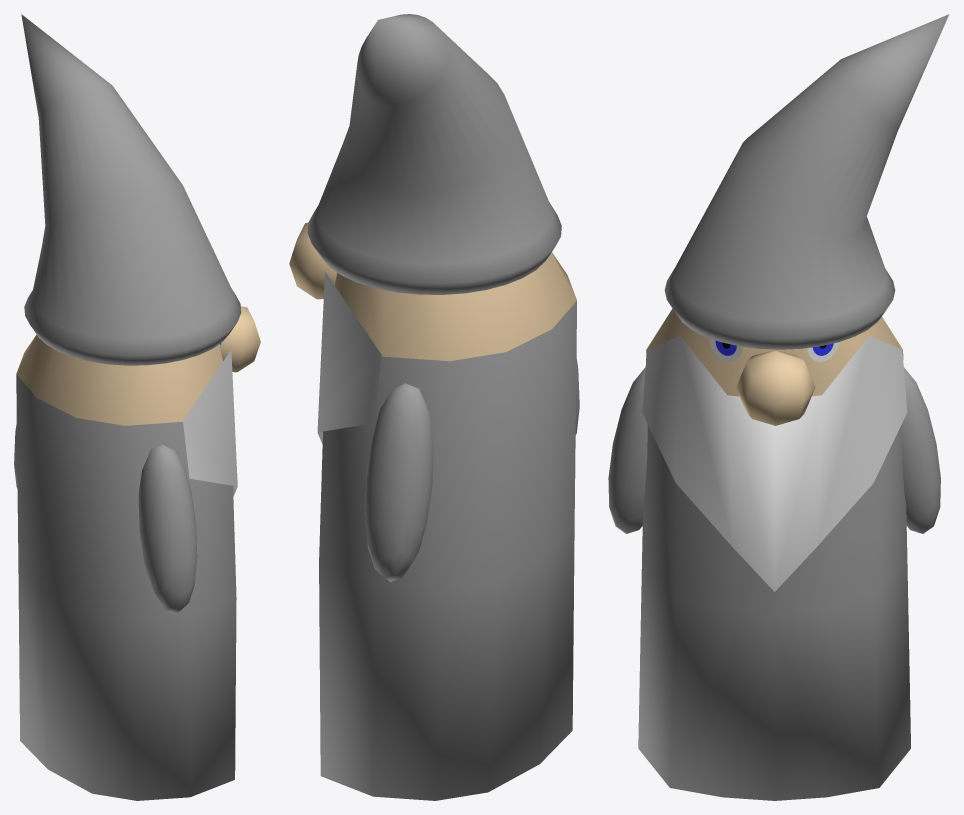
Rendered from KvitNise.gltf.
3 renders of one model, left to right at view 1: azimuth 30°, elevation 25°; view 2: azimuth 150°, elevation 25°; view 3: azimuth 270°, elevation 25°, orthographic. The views are drawn at different scales.
Visible parts, largest first — view 1: KvitNise; view 2: KvitNise; view 3: KvitNise.
Part boxes in pixels (x1,y1,x2,y2): KvitNise: [14, 14, 260, 800]; KvitNise: [289, 14, 579, 800]; KvitNise: [608, 14, 949, 800].
Bounding box in the file's own units: 5.67 × 17.11 × 7.21.
